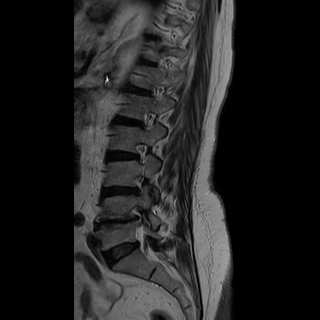LFS0: (124, 135, 157, 170)
